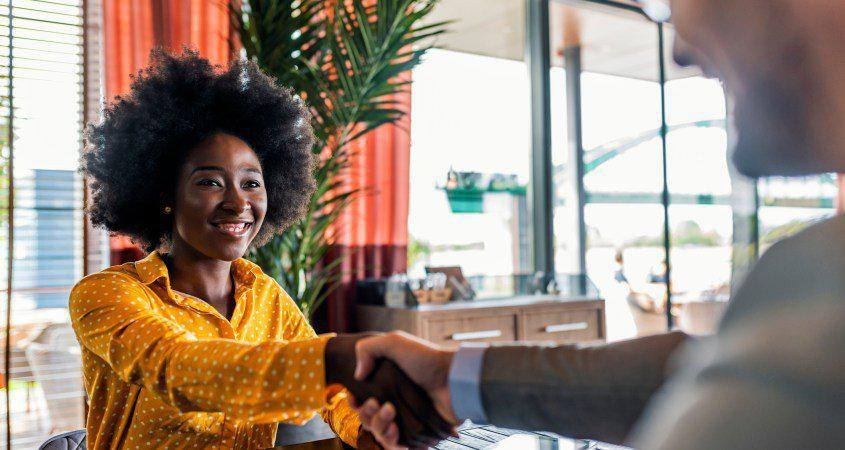Sober: (186, 142, 261, 256)
